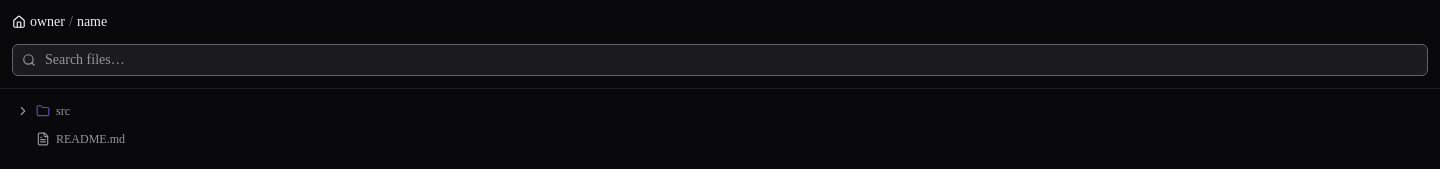
Test: FileExplorer — search › shows an empty state when nothing matches
Type "zzzznope" into the search field labelled "Search files…". click: (720, 60)
box: [12, 44, 1428, 76]
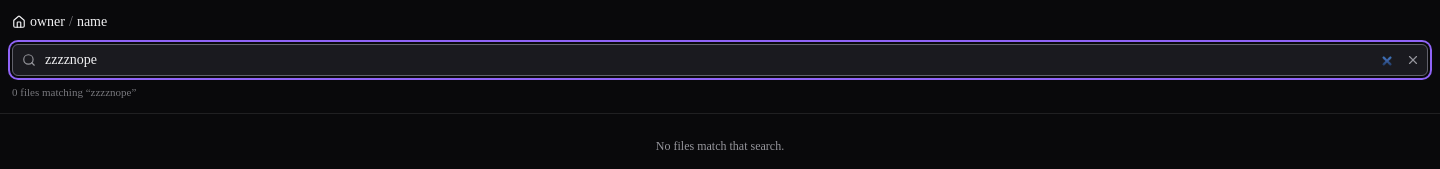
Result: the text "No files match that search." is shown at [656, 138, 784, 152]
